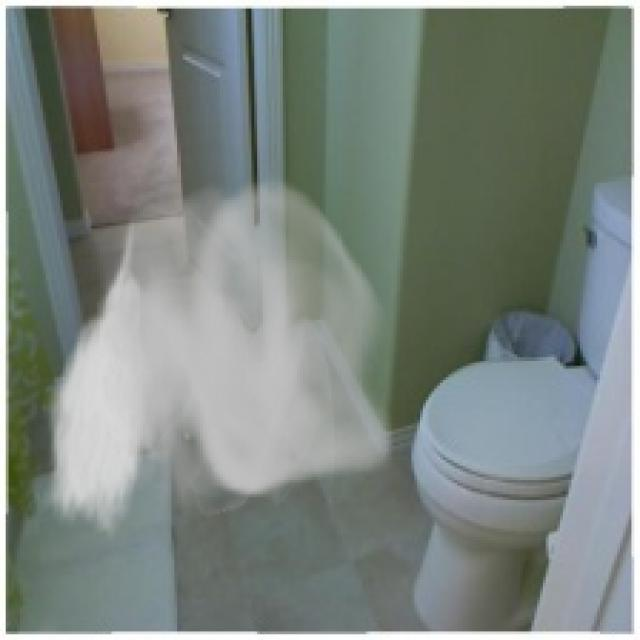smoke: (43, 169, 394, 540)
